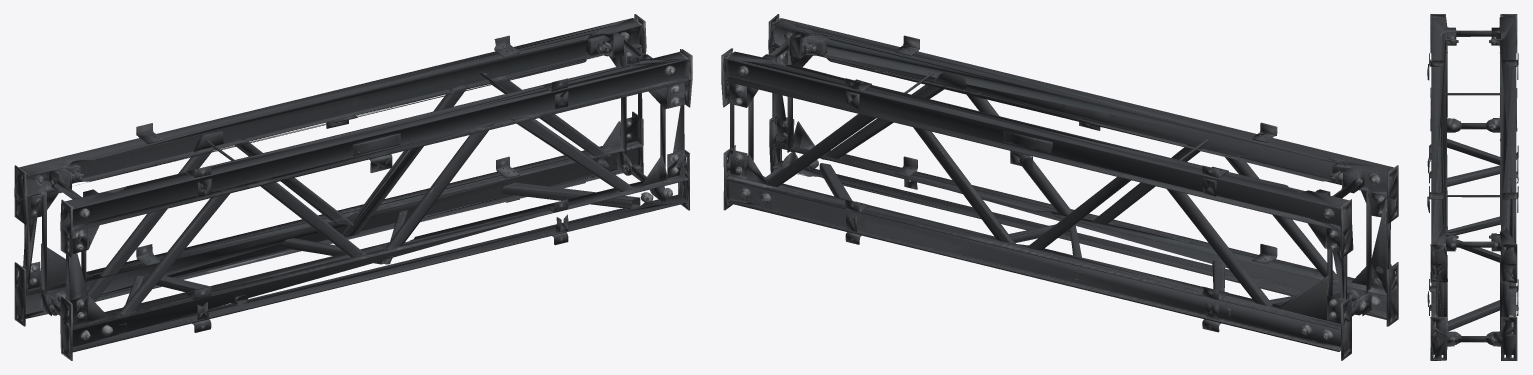
Rendered from ceiling_beam_truss.glb.
The picture shows the model from 3 angles, left to right: view 1: azimuth 30°, elevation 25°; view 2: azimuth 150°, elevation 25°; view 3: azimuth 270°, elevation 25°; orthographic projection. The views are drawn at different scales.
Bounding box in the file's own units: 0.9497 × 0.2387 × 0.1587.
1 material, 1 textured.
